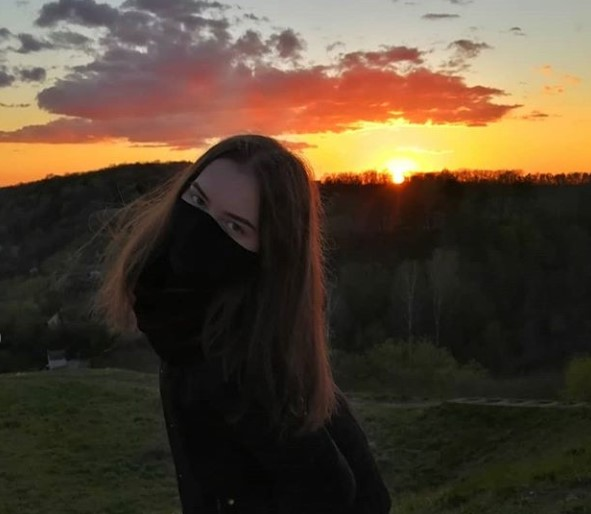face_with_mask: (167, 135, 297, 295)
